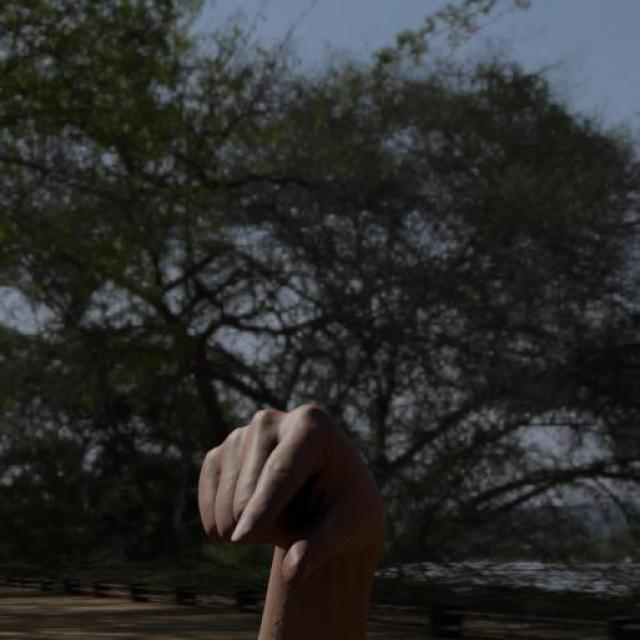Q: (123, 337, 450, 640)
